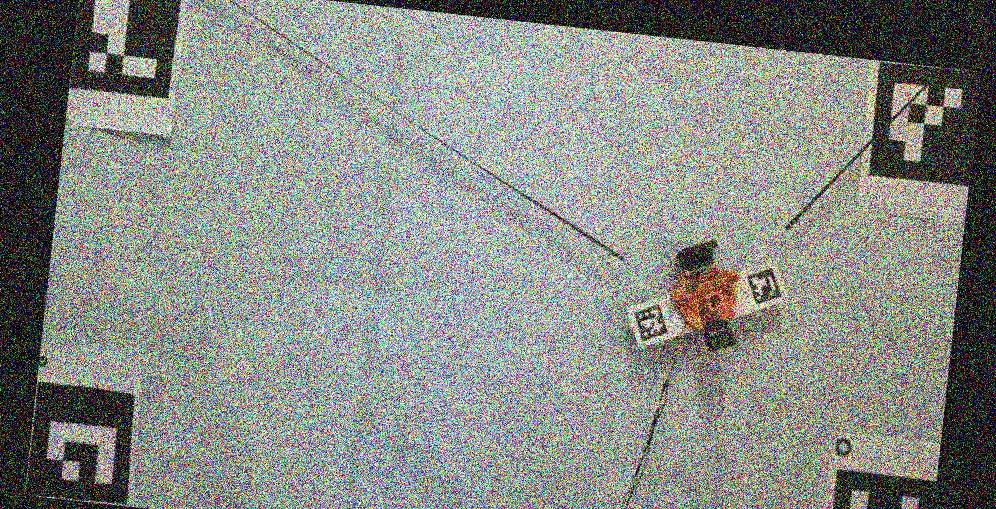robot: (669, 239, 739, 350)
